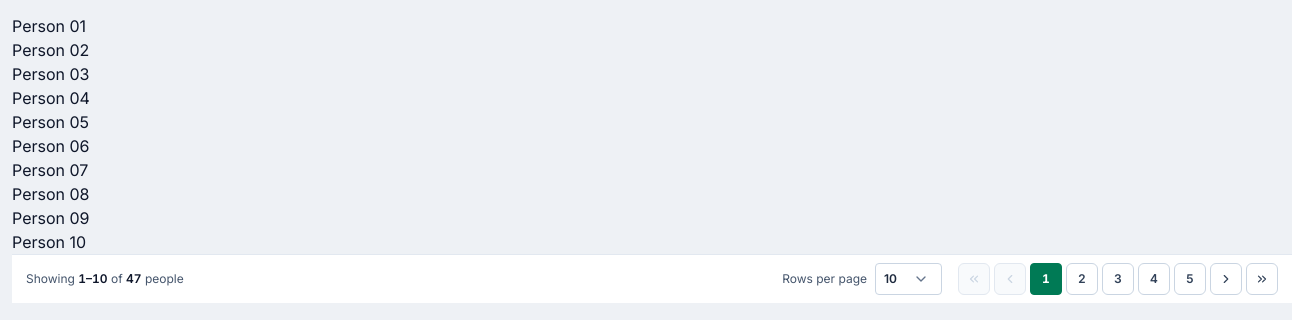
Scenario: Pagination › moves between pages with next, last and the page numbers
Click the button named "Next page" at {"x": 1226, "y": 279}, box [1210,263,1242,295]
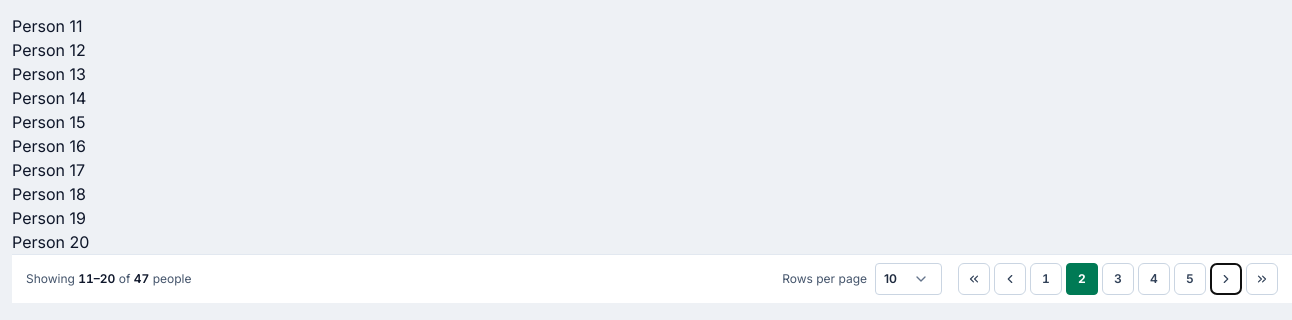
Check: the list item "Person 11" is shown, box [12,16,82,36]
Check: the text "Showing 11–20 of 47 people" is shown, box [26,271,192,287]
Click the button named "Last page" at {"x": 1262, "y": 279}, box [1246,263,1278,295]
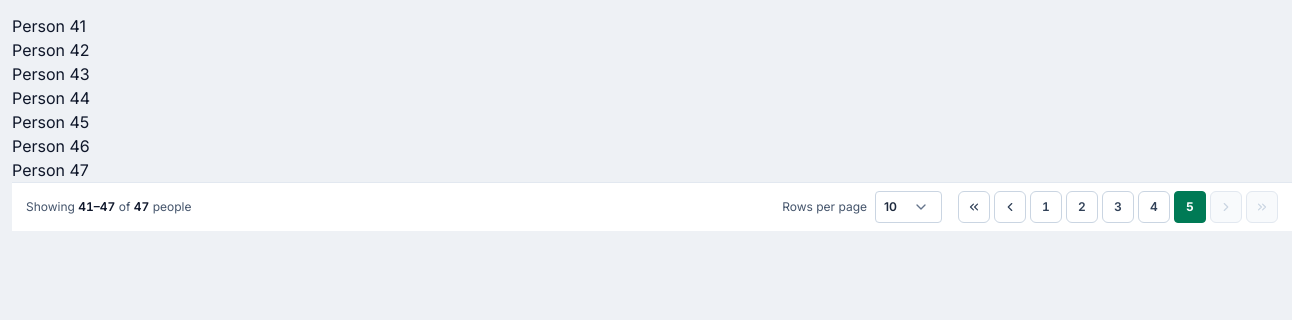
Check: the button named "Next page" is disabled, box [1210,191,1242,223]
Click the button named "Page 3" at {"x": 1118, "y": 207}, box [1102,191,1134,223]
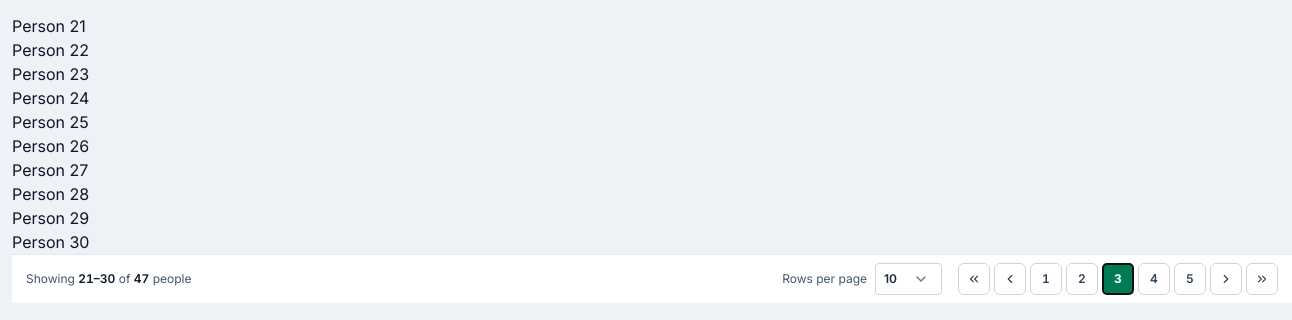
Check: the list item "Person 21" is shown, box [12,16,86,36]
